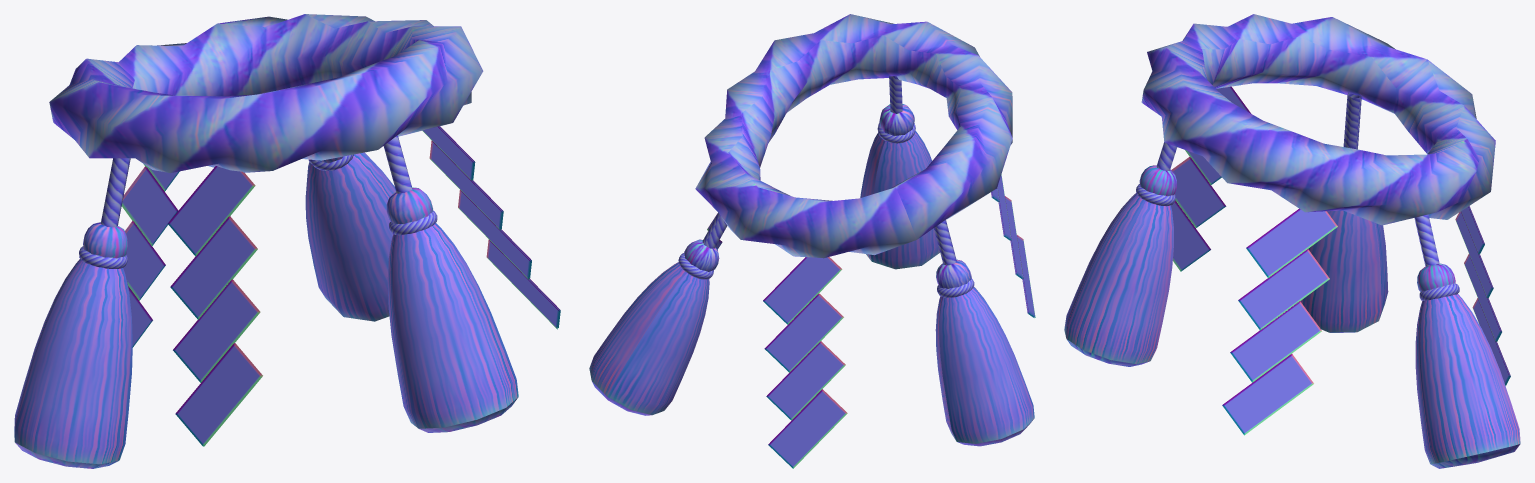
File: SM_EastLands_Rope_05.fbx
The picture shows the model from 3 angles, left to right: view 1: azimuth 30°, elevation 25°; view 2: azimuth 150°, elevation 25°; view 3: azimuth 270°, elevation 25°; orthographic projection. The views are drawn at different scales.
Visible parts, largest first — view 1: SM_EastLands_Rope_05_LOD0; view 2: SM_EastLands_Rope_05_LOD0; view 3: SM_EastLands_Rope_05_LOD0.
Part boxes in pixels (x1,y1,x2,y2): SM_EastLands_Rope_05_LOD0: (14,14,560,468); SM_EastLands_Rope_05_LOD0: (589,14,1035,468); SM_EastLands_Rope_05_LOD0: (1064,14,1520,468).
Bounding box in the file's own units: 136 × 114 × 134.
